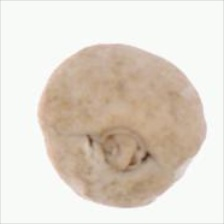L3: (86, 126, 155, 170)
L4: (38, 43, 207, 208)
